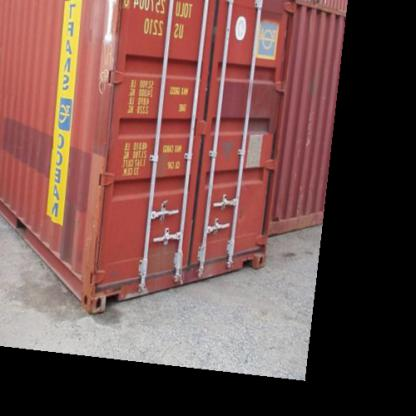Damage: (124, 240, 216, 298), (79, 150, 108, 310), (98, 2, 122, 86)
